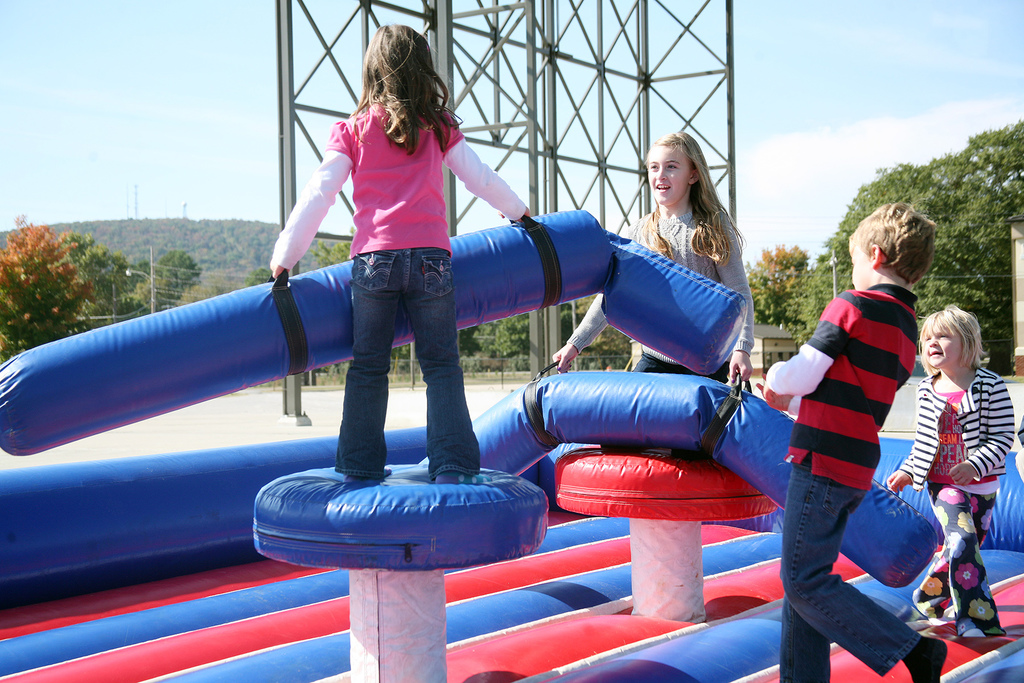Person: (756, 200, 947, 682), (550, 131, 754, 385)
